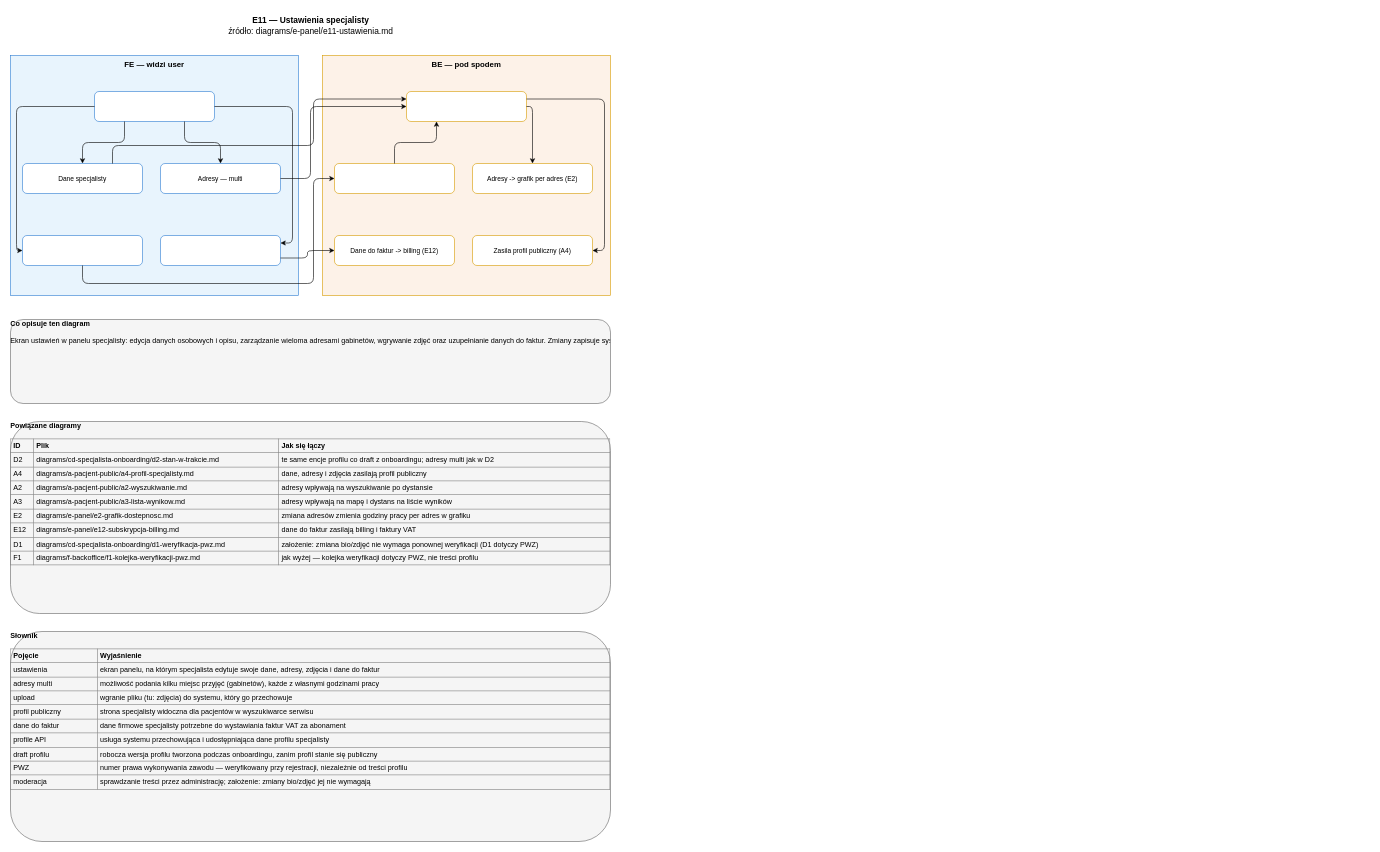
Image size: 1380x852. Some labels were removed from this diagram. The shapes that lost their labels are listed below. From the top down, each one's centre as x and y in pixels, then its label:
the point at 154,106: Ustawienia
the point at 466,106: Profile API
the point at 394,178: Upload i przechowywanie zdjęć
the point at 82,250: Zdjęcia
the point at 220,250: Dane do faktur
